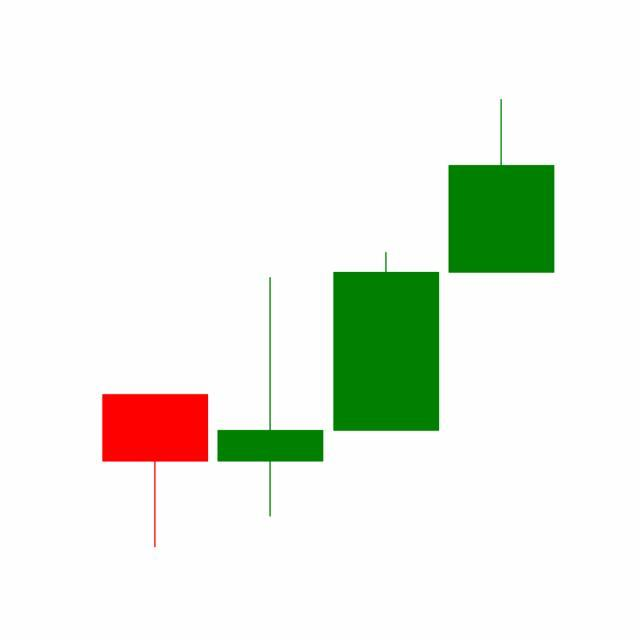Marubozu: (329, 251, 445, 434)
